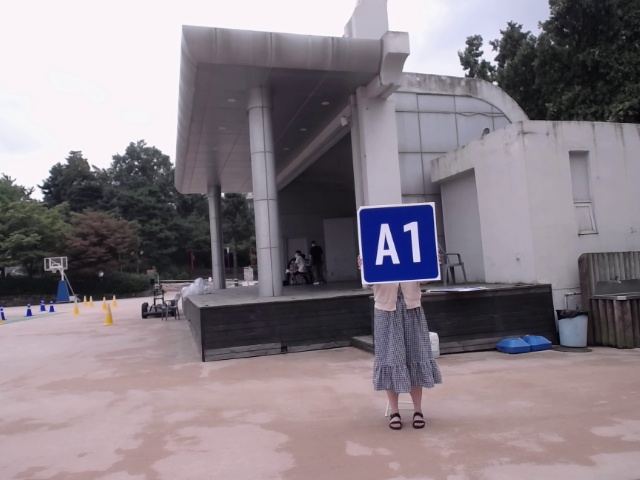delivery_a1: (358, 202, 440, 284)
